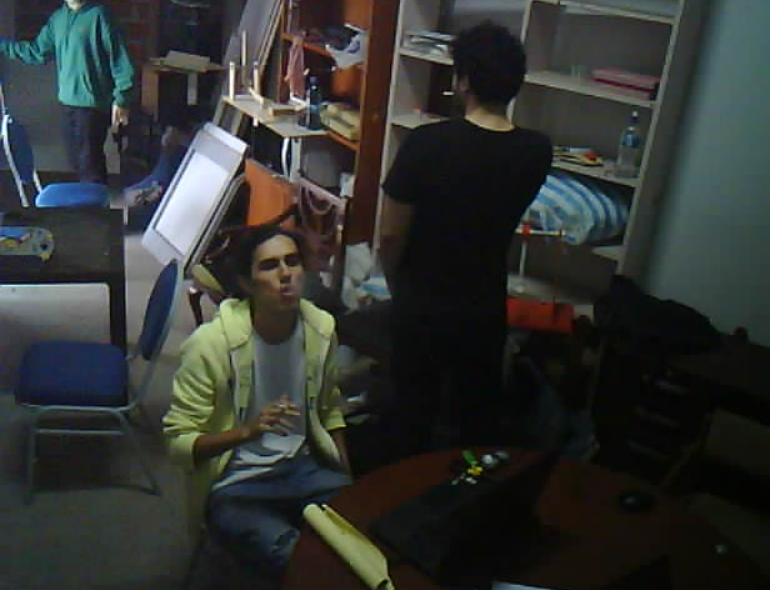person: (358, 10, 587, 465), (148, 211, 368, 590), (0, 0, 151, 190)
